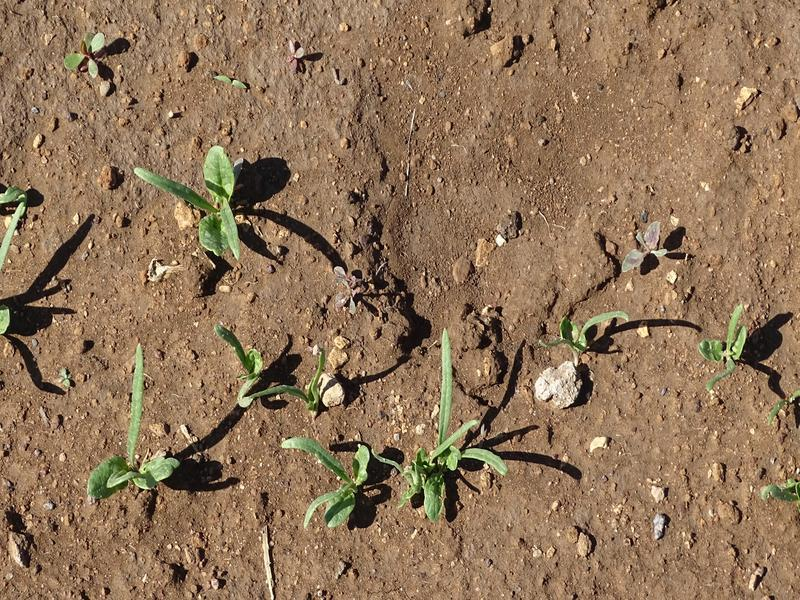Espinaca: (74, 306, 377, 537), (396, 339, 508, 533), (141, 134, 265, 270), (706, 301, 762, 401), (550, 309, 635, 355), (1, 181, 26, 260)
